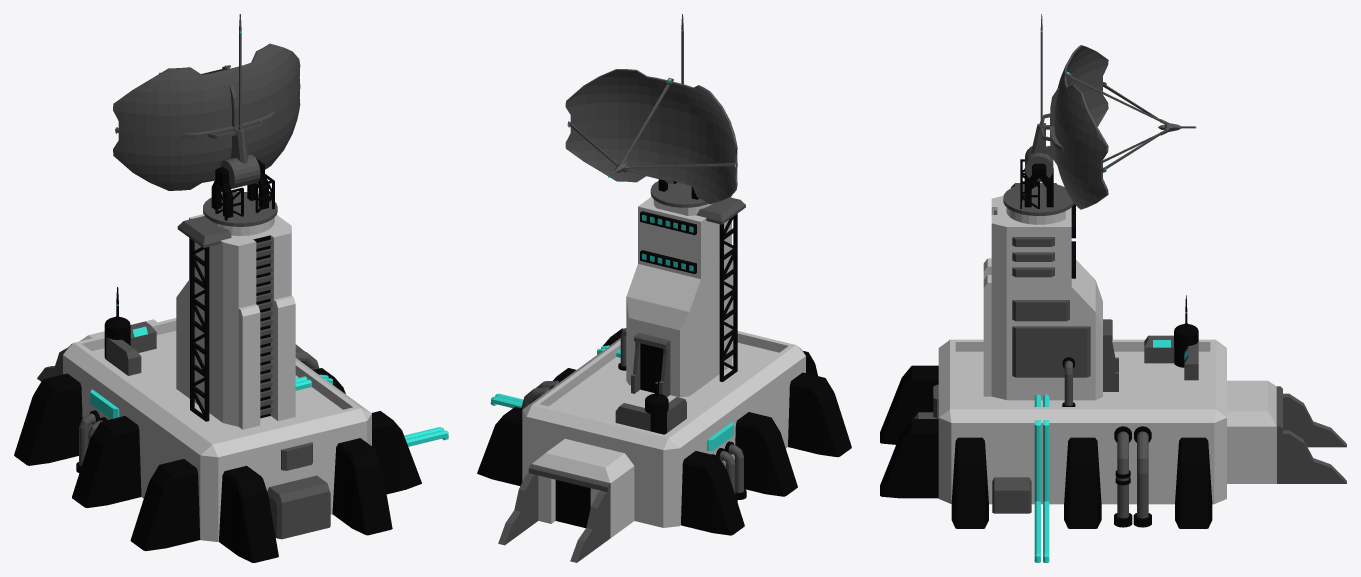
The model's file is RadarBuilding.fbx.
3 views of the same model, side by side, from view 1: azimuth 30°, elevation 25°; view 2: azimuth 150°, elevation 25°; view 3: azimuth 270°, elevation 25° (orthographic). The views are drawn at different scales.
Parts seen in each view (by area): view 1: Radar_Base, Radar_Dish, Radar_Motor; view 2: Radar_Base, Radar_Dish, Radar_Motor; view 3: Radar_Base, Radar_Dish, Radar_Motor.
Boxes of the visible parts, x1,y1,x2,y2 form: Radar_Base: (14, 214, 448, 562); Radar_Dish: (113, 14, 300, 190); Radar_Motor: (203, 158, 277, 226); Radar_Base: (477, 196, 851, 562); Radar_Dish: (565, 14, 737, 203); Radar_Motor: (650, 179, 708, 207); Radar_Base: (880, 183, 1346, 562); Radar_Dish: (1025, 14, 1196, 209); Radar_Motor: (1003, 159, 1073, 215).
Bounding box in the file's own units: 492 × 528 × 404.
